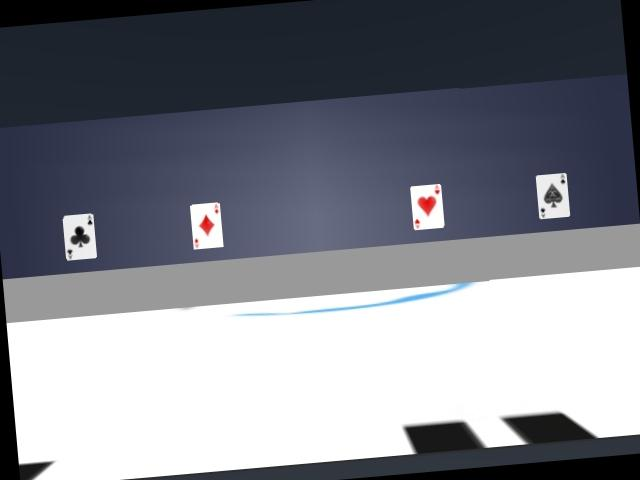club: (63, 214, 96, 260)
diamond: (190, 202, 223, 249)
heart: (410, 184, 444, 229)
spade: (536, 173, 569, 218)
